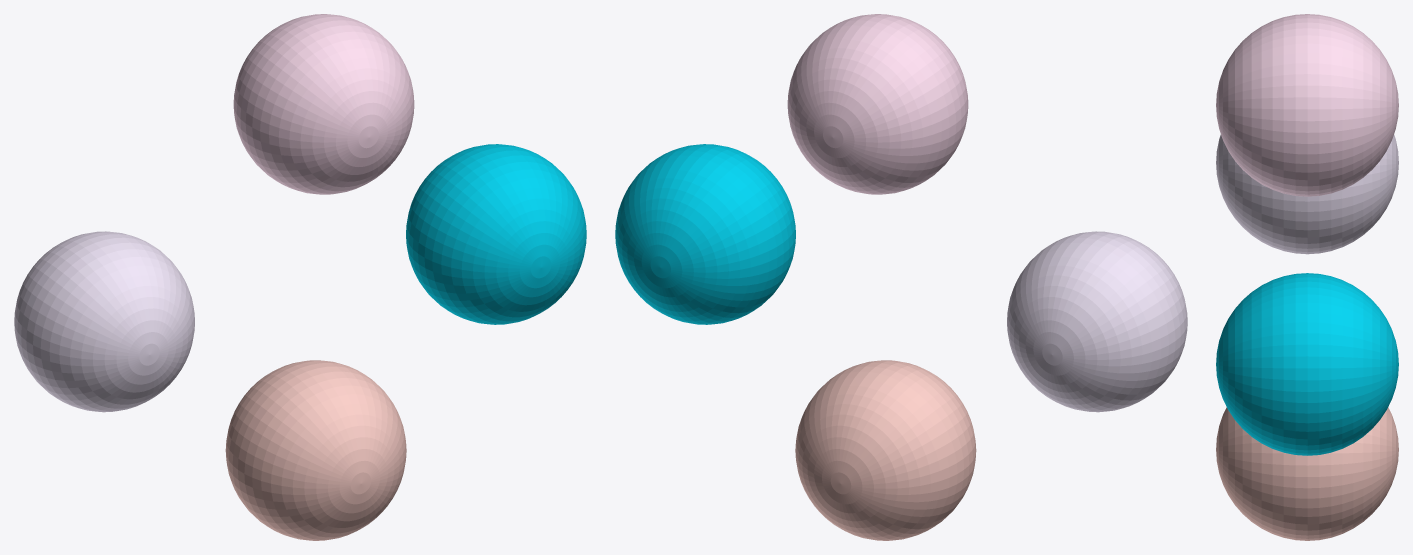
File: bolas.glb
The picture shows the model from 3 angles, left to right: view 1: azimuth 30°, elevation 25°; view 2: azimuth 150°, elevation 25°; view 3: azimuth 270°, elevation 25°; orthographic projection.
Parts seen in each view (by area): view 1: Node3, Node1, Node2, Node4; view 2: Node3, Node1, Node2, Node4; view 3: Node2, Node1, Node3, Node4.
Part boxes in pixels (box(x1,y1,x2,y2)): Node3: box(225, 360, 406, 540); Node1: box(406, 144, 586, 324); Node2: box(233, 14, 414, 194); Node4: box(14, 231, 194, 412); Node3: box(795, 360, 976, 540); Node1: box(615, 144, 795, 324); Node2: box(787, 14, 968, 194); Node4: box(1007, 231, 1187, 412); Node2: box(1216, 14, 1398, 196); Node1: box(1216, 273, 1398, 455); Node3: box(1216, 407, 1398, 540); Node4: box(1216, 134, 1398, 254).
Bounding box in the file's own units: 70 × 62 × 20.
